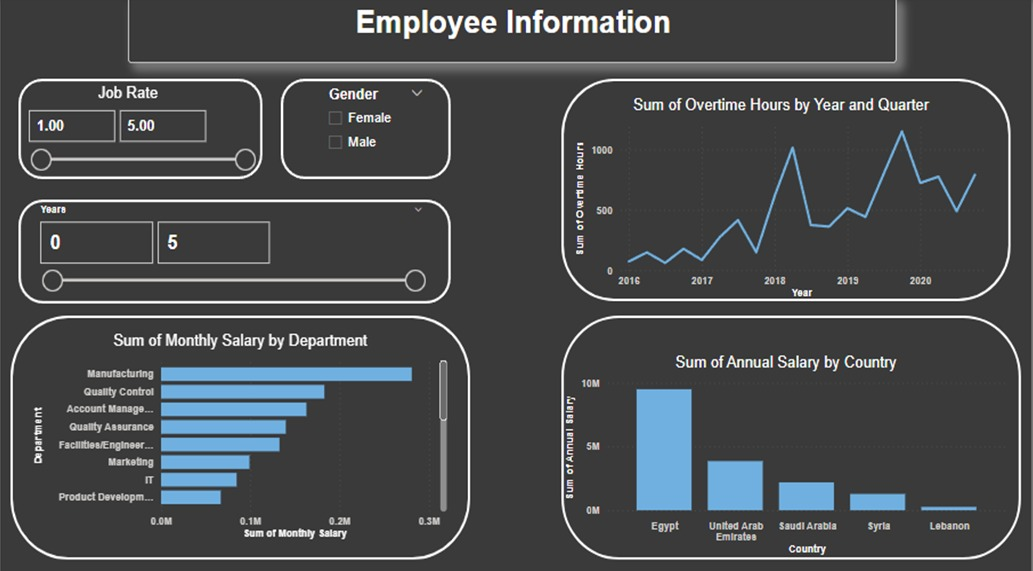

The dashboard page shown, as its layout file describes it:
{"tool":"powerbi","page":{"name":"Page 1","canvas":[1280,720],"ordinal":0},"visuals":[{"type":"lineChart","fields":{"Y":["Sum(Employees.Overtime Hours)"],"Category":["Employees.Start Date.Variation.Date Hierarchy.Year","Employees.Start Date.Variation.Date Hierarchy.Quarter"]},"box":[0,360,583.2,335.5],"z":0},{"type":"textbox","box":[157.9,0,942.4,77.3],"z":1000},{"type":"clusteredColumnChart","fields":{"Y":["Sum(Employees.Annual Salary)"],"Category":["Employees.Country"]},"box":[639.4,360,640.8,335.5],"z":2000},{"type":"slicer","fields":{"Values":["Employees.Years"]},"box":[0,226.1,583.2,122],"z":3000},{"type":"slicer","fields":{"Values":["Employees.Gender"]},"box":[0,100.8,253.4,112.3],"z":4000},{"type":"clusteredBarChart","fields":{"Category":["Employees.Department"],"Y":["Sum(Employees.Monthly Salary)"]},"box":[639.4,96.5,640.8,249.1],"z":4001},{"type":"slicer","fields":{"Values":["Employees.Job Rate"]},"box":[267.8,100.8,315.4,112.3],"z":4002}]}

Visuals, with their boxes in screenshot pixels (x1, y1, x2, y2), scaled from the page's 1280x720 canvas onto the 1033x571 screenshot:
lineChart - Sum(Employees.Overtime Hours) x Employees.Start Date.Variation.Date Hierarchy.Year: <box>0,286,471,552</box>
textbox: <box>127,0,888,61</box>
clusteredColumnChart - Sum(Employees.Annual Salary) x Employees.Country: <box>516,286,1032,552</box>
slicer - Employees.Years: <box>0,179,471,276</box>
slicer - Employees.Gender: <box>0,80,205,169</box>
clusteredBarChart - Employees.Department x Sum(Employees.Monthly Salary): <box>516,77,1032,274</box>
slicer - Employees.Job Rate: <box>216,80,471,169</box>
